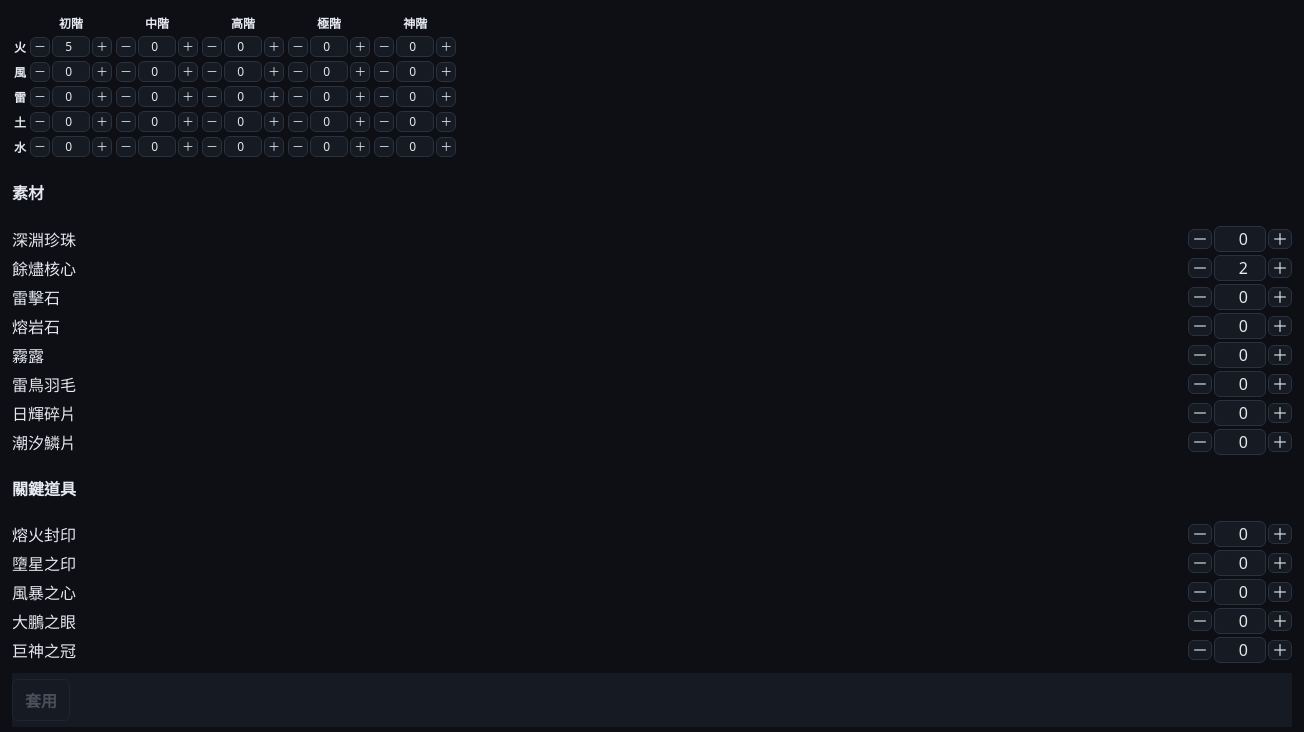
Test: GmInventoryTab › shows what the server state now holds after applying
Replace the text in the number field named "初階火" with "7": (71, 46) [52, 36, 90, 57]
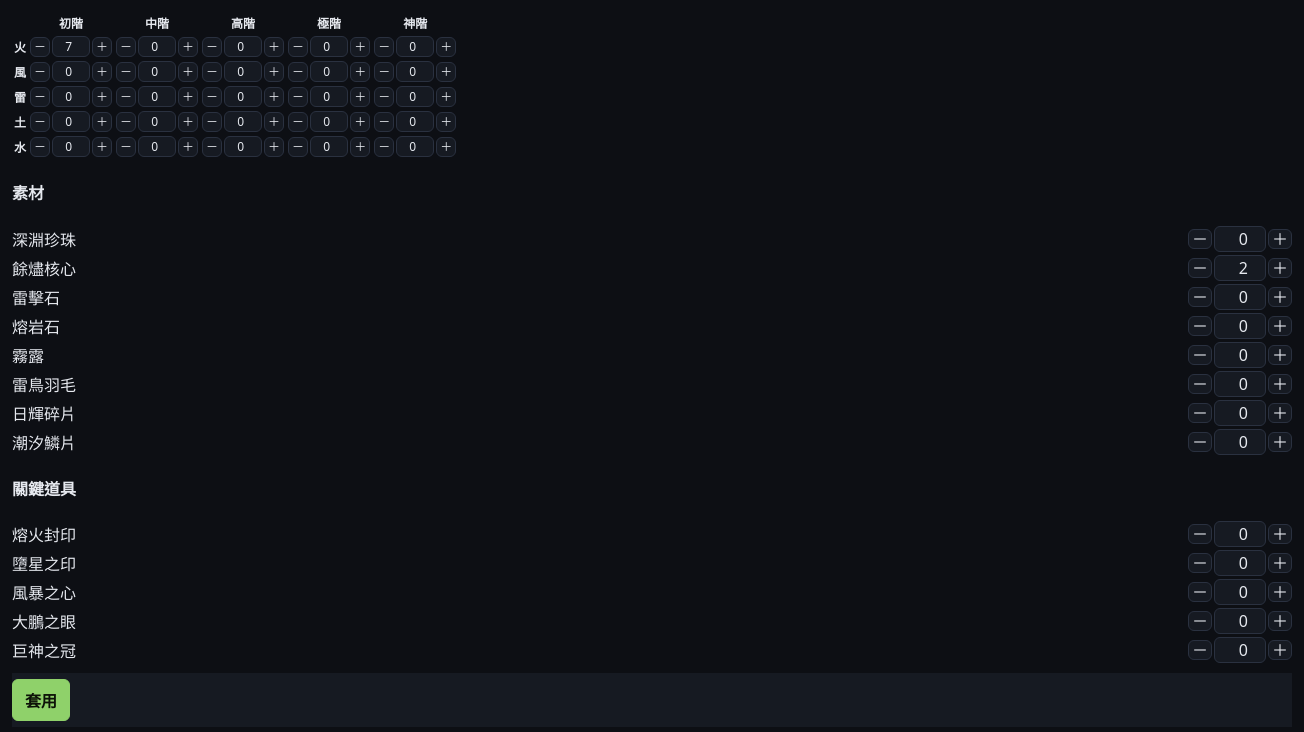
Click the button "套用": (41, 700) [12, 679, 70, 721]
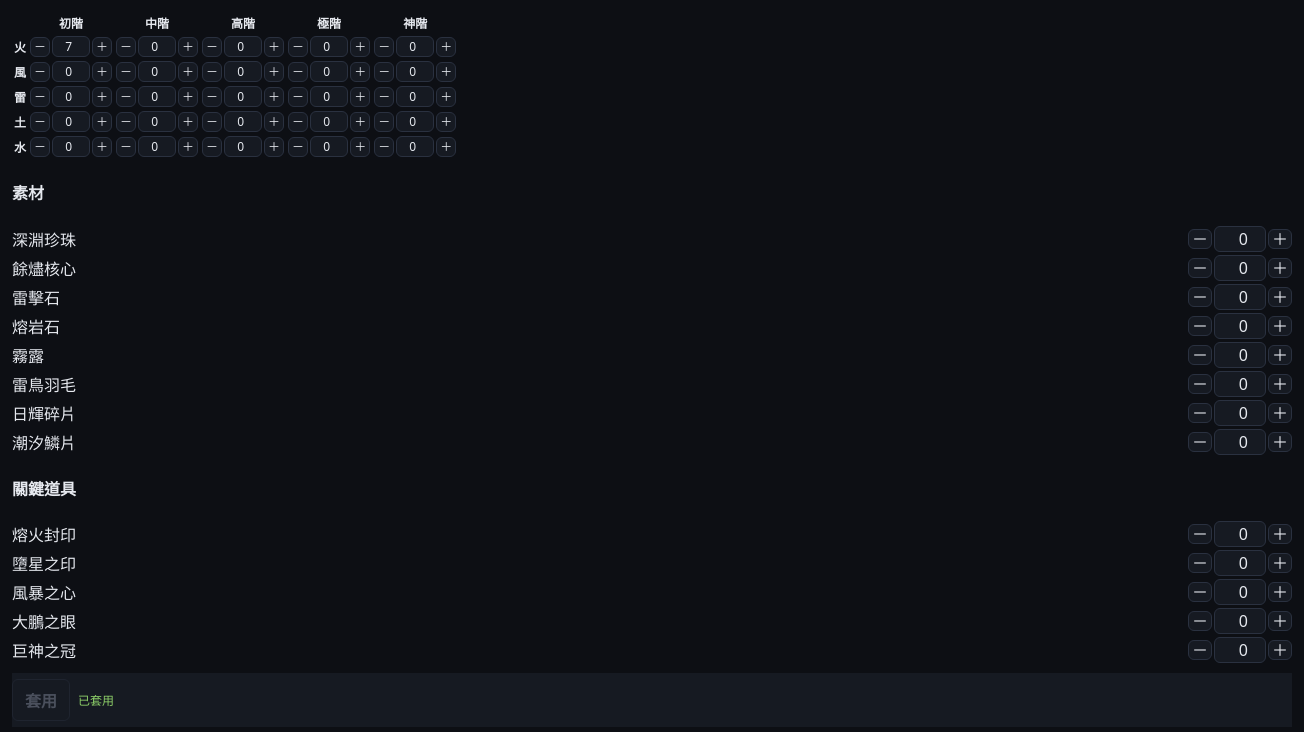
Result: the message reads "已套用" at [78, 692, 114, 709]
Result: the number field named "餘燼核心" holds "0" at [1214, 254, 1266, 280]
